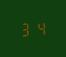four: (33, 19, 46, 36)
three: (19, 20, 32, 37)
